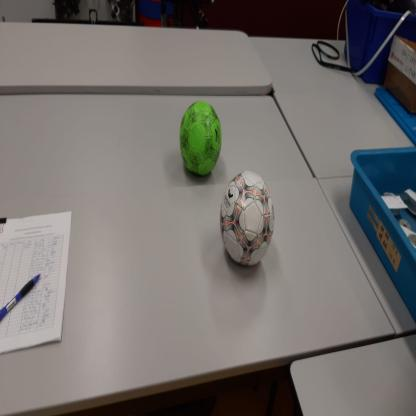ball: (220, 171, 274, 269), (180, 102, 222, 176)
